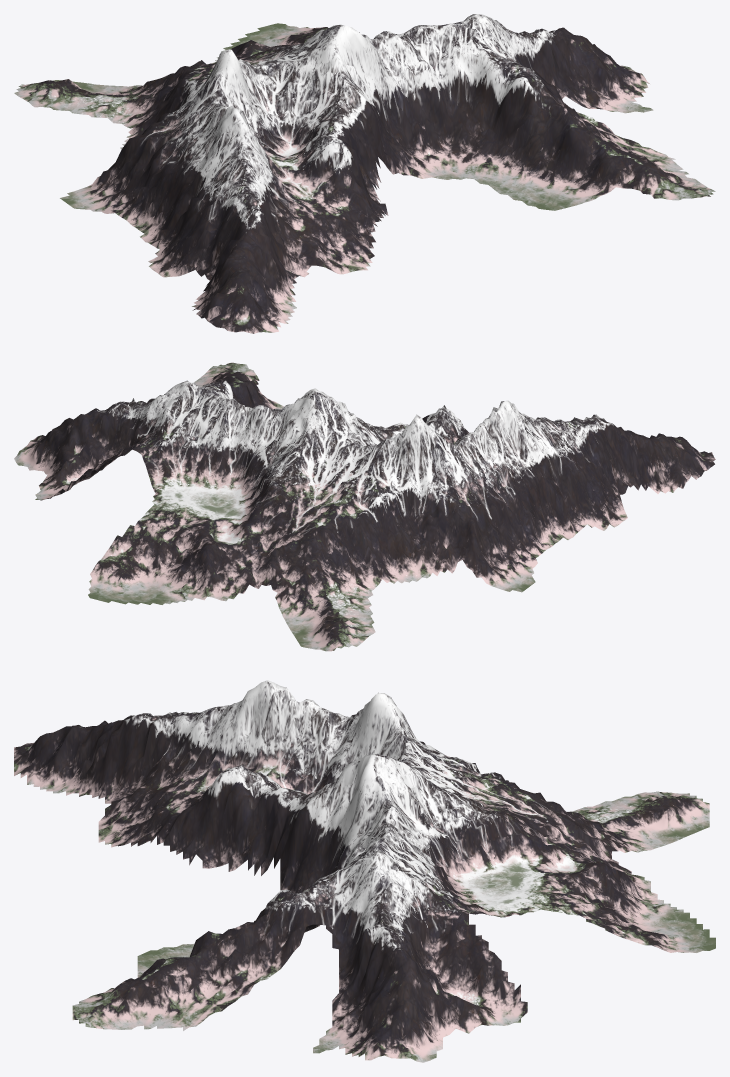
Rendered from alazar_mountain02.FBX.
3 views of the same model, one above another, from view 1: azimuth 30°, elevation 25°; view 2: azimuth 150°, elevation 25°; view 3: azimuth 270°, elevation 25° (orthographic). The views are drawn at different scales.
Visible parts, largest first — view 1: alazar_mountain02; view 2: alazar_mountain02; view 3: alazar_mountain02.
Boxes of the visible parts, x1,y1,x2,y2 form: alazar_mountain02: (14, 14, 715, 333); alazar_mountain02: (14, 362, 715, 651); alazar_mountain02: (14, 680, 715, 1062).
Size of the model in its own units: 730 by 691 by 162.
1 material, 1 textured.
